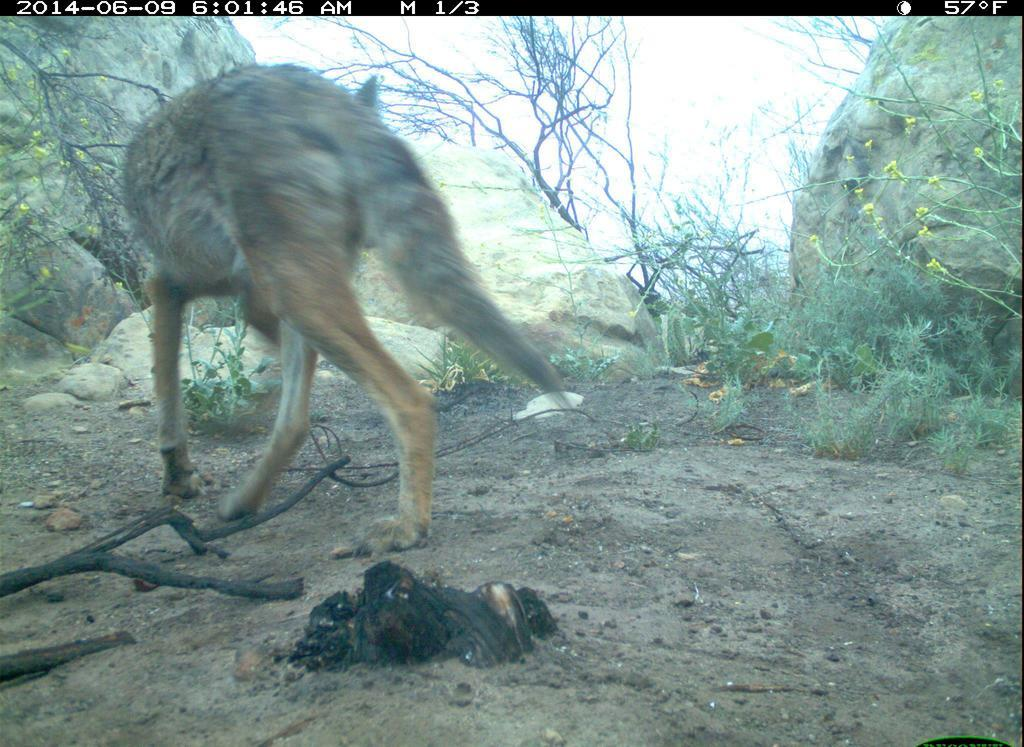coyote: (123, 59, 577, 559)
